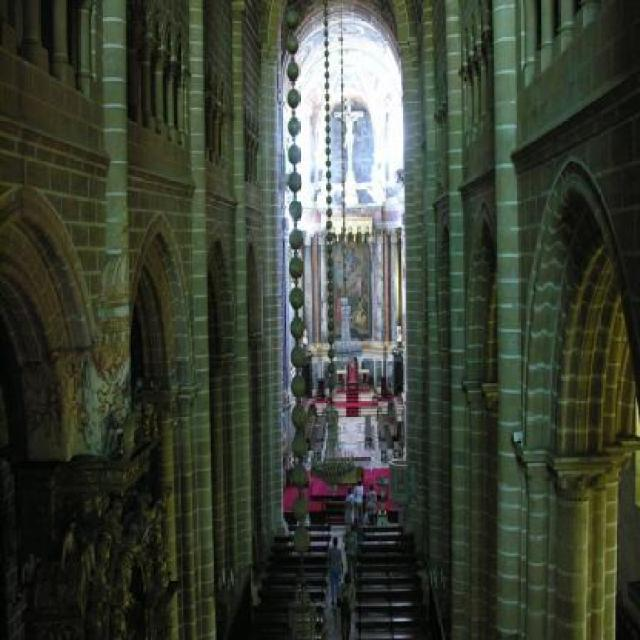stair: (231, 534, 334, 640), (348, 523, 432, 640)
